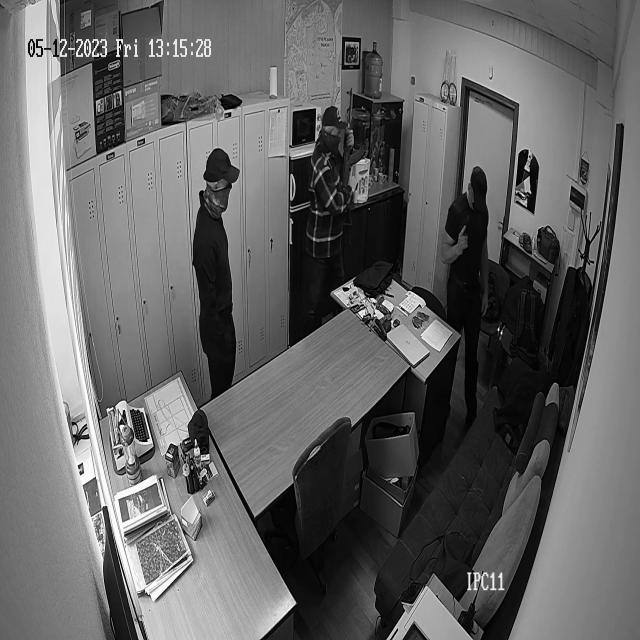gun: (342, 90, 363, 216), (459, 216, 475, 264)
person: (194, 148, 239, 392)
person with a gun: (303, 84, 363, 338), (442, 167, 491, 425)
